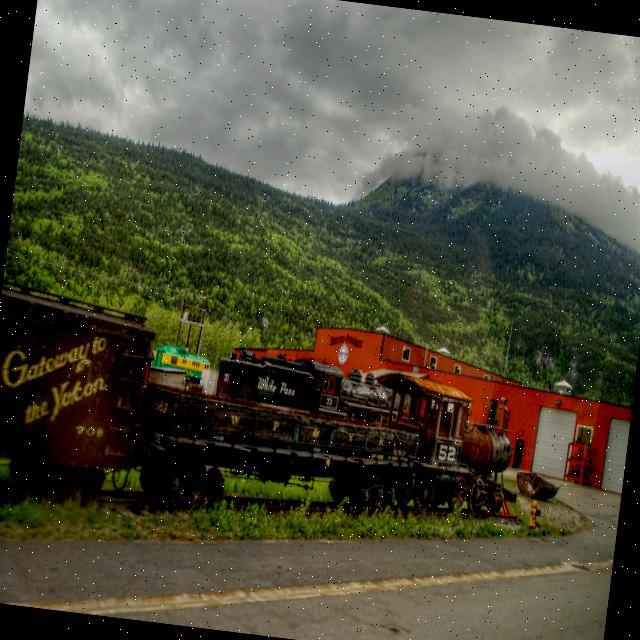fire_hydrant: (525, 498, 542, 530)
